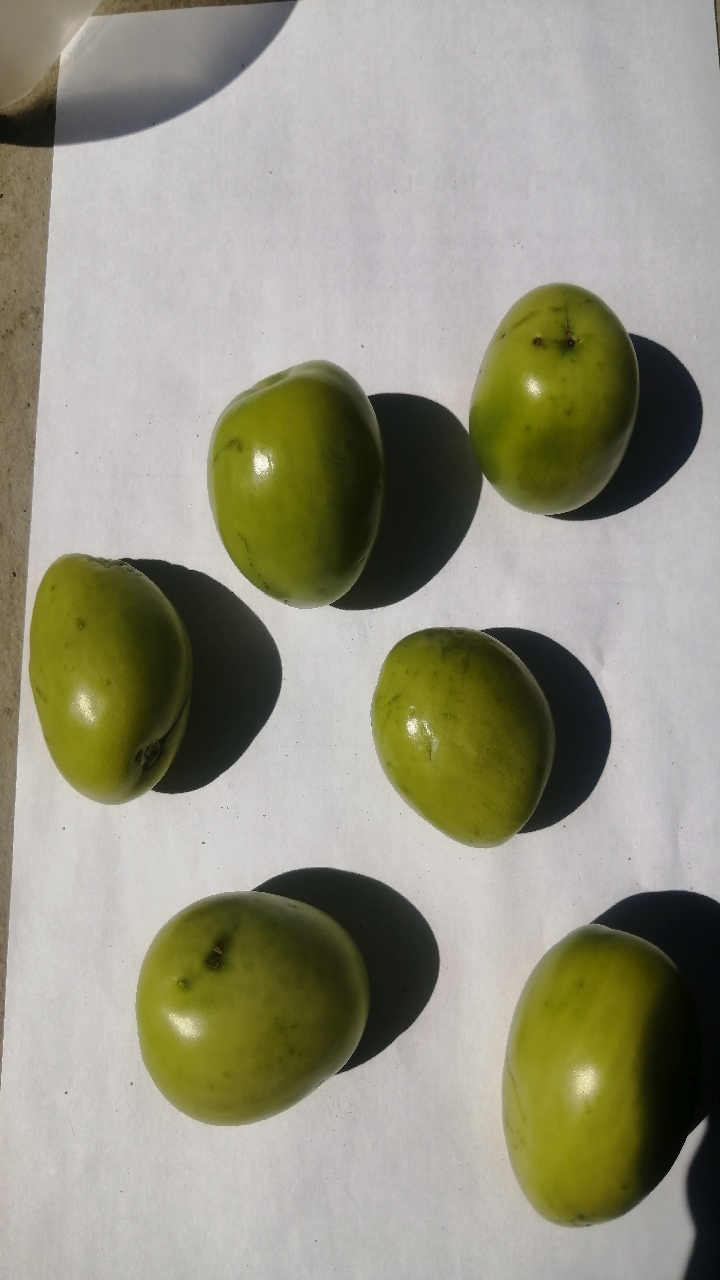tomateVerde: (109, 872, 388, 1149), (466, 903, 684, 1257), (429, 259, 655, 554), (183, 339, 380, 637), (9, 540, 206, 837), (348, 609, 560, 860)
